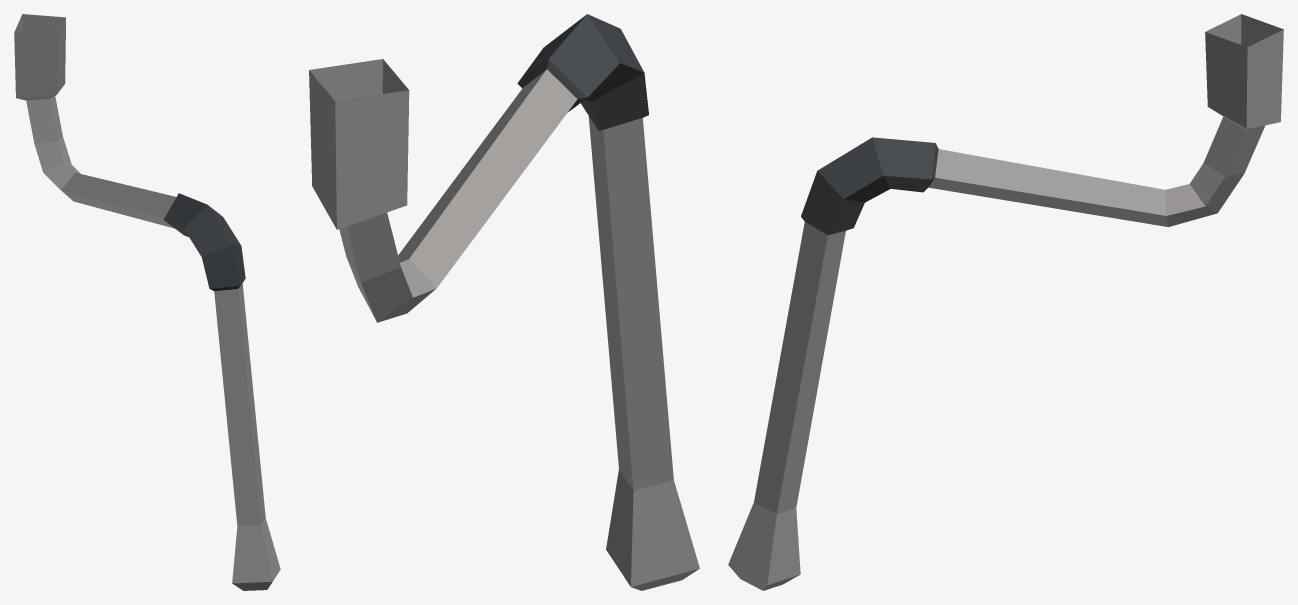
The model's file is SM_Prop_Cafe_Machine_01_SteamWand_01.obj.
3 views of the same model, side by side, from view 1: azimuth 30°, elevation 25°; view 2: azimuth 150°, elevation 25°; view 3: azimuth 270°, elevation 25° (orthographic). The views are drawn at different scales.
Parts seen in each view (by area): view 1: SM_Prop_Cafe_Machine_01_SteamWand_01_0; view 2: SM_Prop_Cafe_Machine_01_SteamWand_01_0; view 3: SM_Prop_Cafe_Machine_01_SteamWand_01_0.
Part boxes in pixels (left/top/right/bottom): SM_Prop_Cafe_Machine_01_SteamWand_01_0: left=14, top=14, right=280, bottom=590; SM_Prop_Cafe_Machine_01_SteamWand_01_0: left=309, top=14, right=699, bottom=590; SM_Prop_Cafe_Machine_01_SteamWand_01_0: left=728, top=14, right=1283, bottom=590.
Bounding box in the file's own units: 0.033 × 0.1748 × 0.1632.
1 material, 1 textured.
